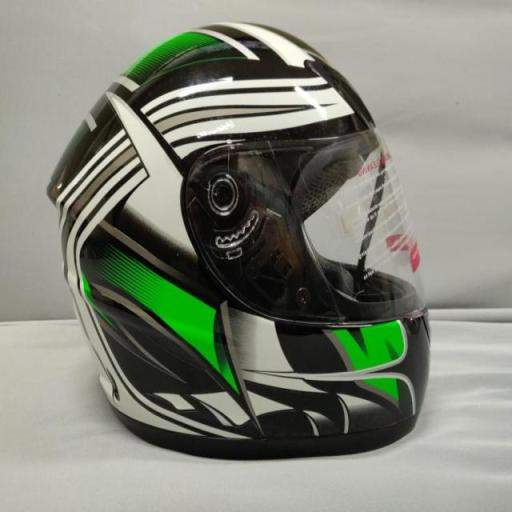Helmet: (48, 24, 429, 456)
